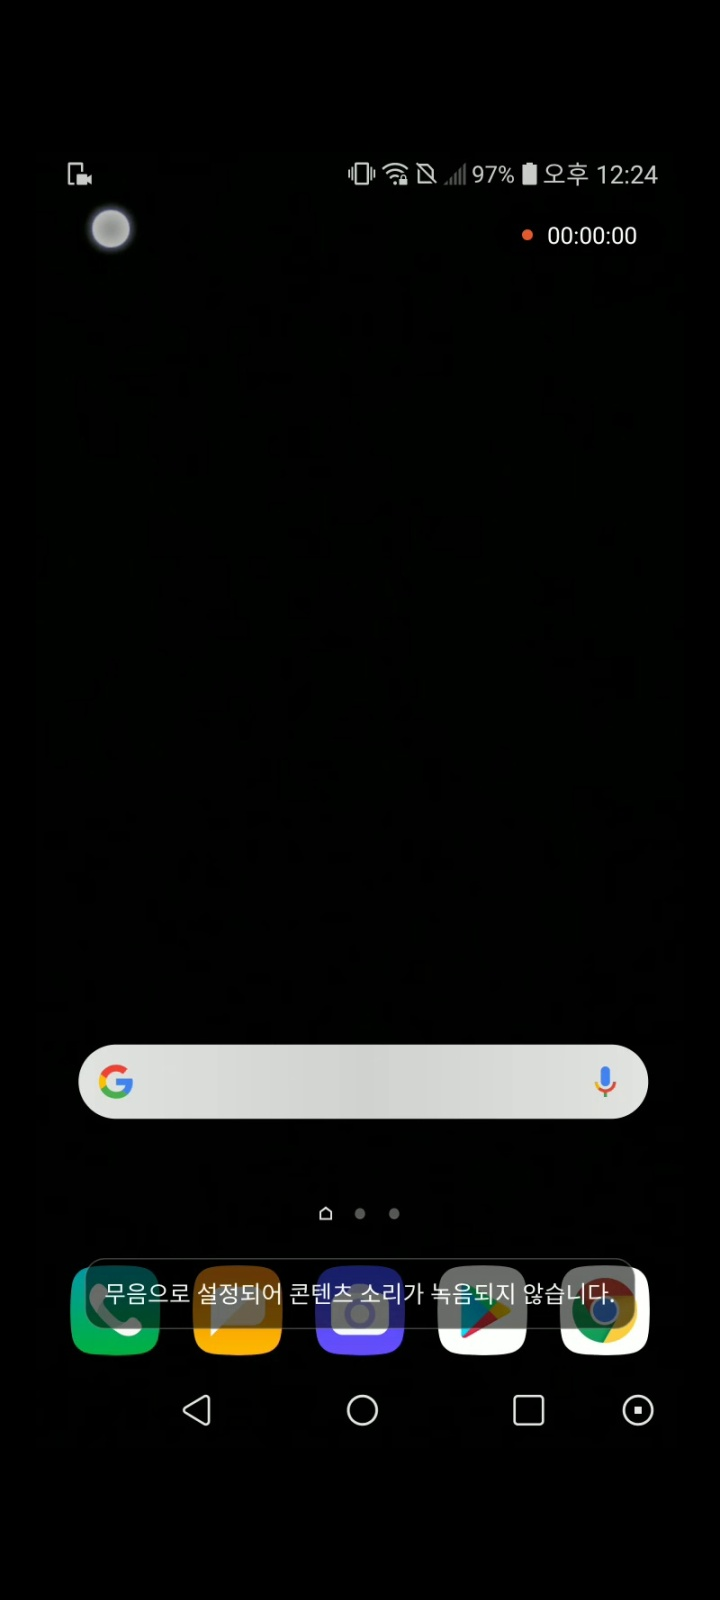Cursor: (88, 206, 133, 252)
